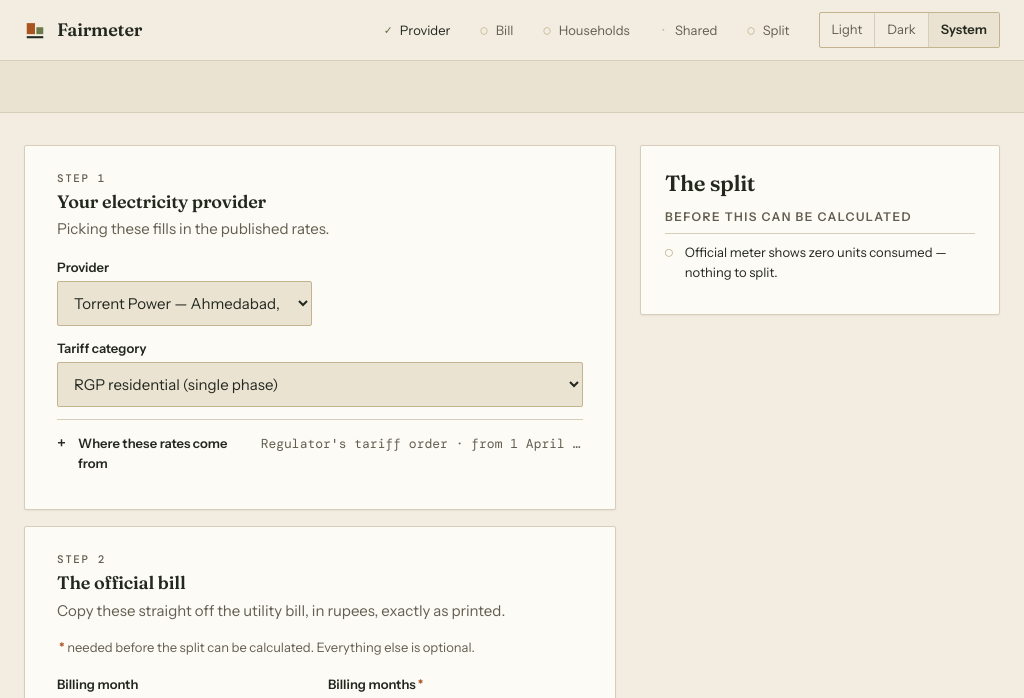
Test: App renders and works in a browser environment › offers provider profiles and re-shapes the rate fields on switching plan
(page scrolled)
Select "RGP residential (single phase)" in the dropdown labelled "Tariff category" at point(320, 384), box [57, 362, 583, 407]
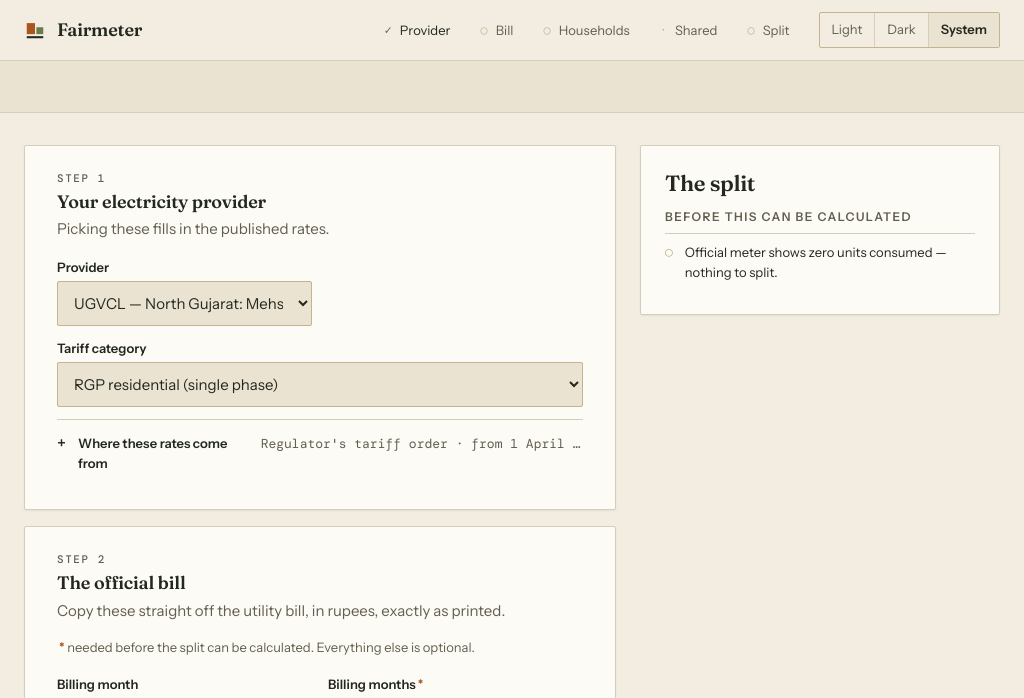
Select "UGVCL — North Gujarat: Mehsana, Palanpur, Himatnagar, Gandhinagar district" in the dropdown labelled "Provider" at point(184, 303), box [57, 281, 312, 326]
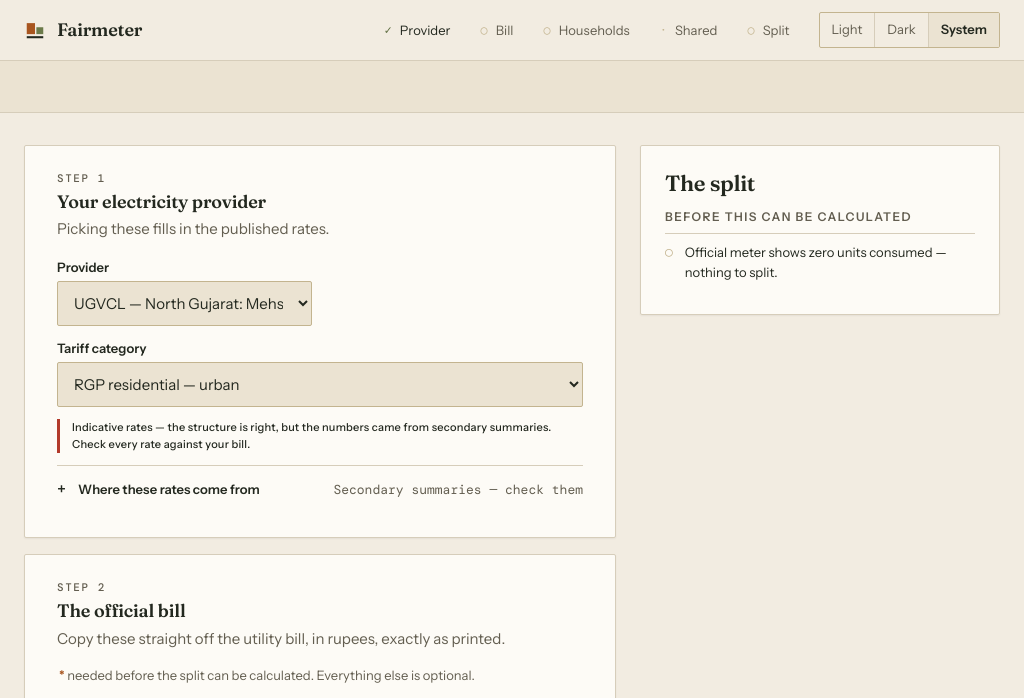
Now the text "Indicative rates" is shown, box [72, 420, 551, 451]
